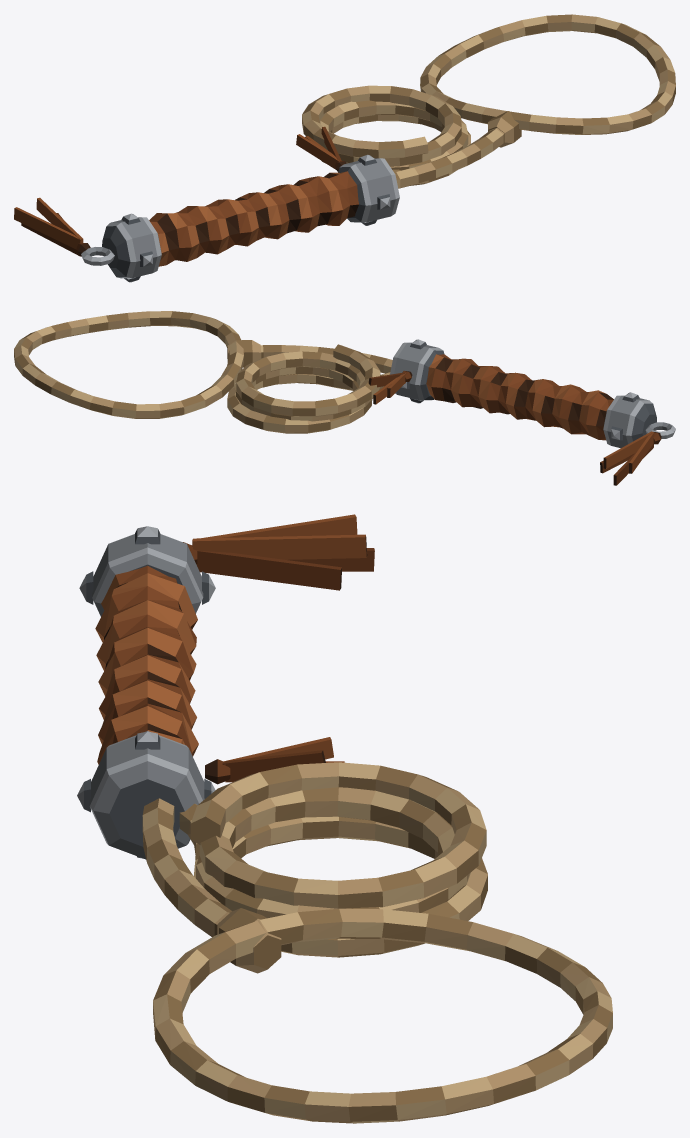
File: CornLasso.fbx
The picture shows the model from 3 angles, top to bottom: view 1: azimuth 30°, elevation 25°; view 2: azimuth 150°, elevation 25°; view 3: azimuth 270°, elevation 25°; orthographic projection. The views are drawn at different scales.
Parts seen in each view (by area): view 1: LassoLoop, LassoHandle, LassoCoil, LassoFittings, LassoTassels; view 2: LassoCoil, LassoLoop, LassoHandle, LassoFittings, LassoTassels; view 3: LassoLoop, LassoCoil, LassoHandle, LassoFittings, LassoTassels.
Boxes of the visible parts, x1=… form: LassoLoop: x1=394, y1=14, x2=675, y2=188; LassoHandle: x1=149, y1=171, x2=358, y2=266; LassoCoil: x1=302, y1=85, x2=470, y2=185; LassoFittings: x1=81, y1=154, x2=399, y2=282; LassoTassels: x1=14, y1=126, x2=346, y2=256; LassoCoil: x1=227, y1=344, x2=390, y2=433; LassoLoop: x1=14, y1=311, x2=392, y2=418; LassoHandle: x1=426, y1=354, x2=613, y2=440; LassoFittings: x1=390, y1=339, x2=675, y2=448; LassoTassels: x1=368, y1=371, x2=661, y2=485; LassoLoop: x1=142, y1=798, x2=612, y2=1123; LassoCoil: x1=179, y1=762, x2=487, y2=957; LassoHandle: x1=95, y1=565, x2=198, y2=764; LassoFittings: x1=77, y1=526, x2=215, y2=859; LassoTassels: x1=183, y1=514, x2=374, y2=784.
Bounding box in the file's own units: 537 × 55.58 × 211.
